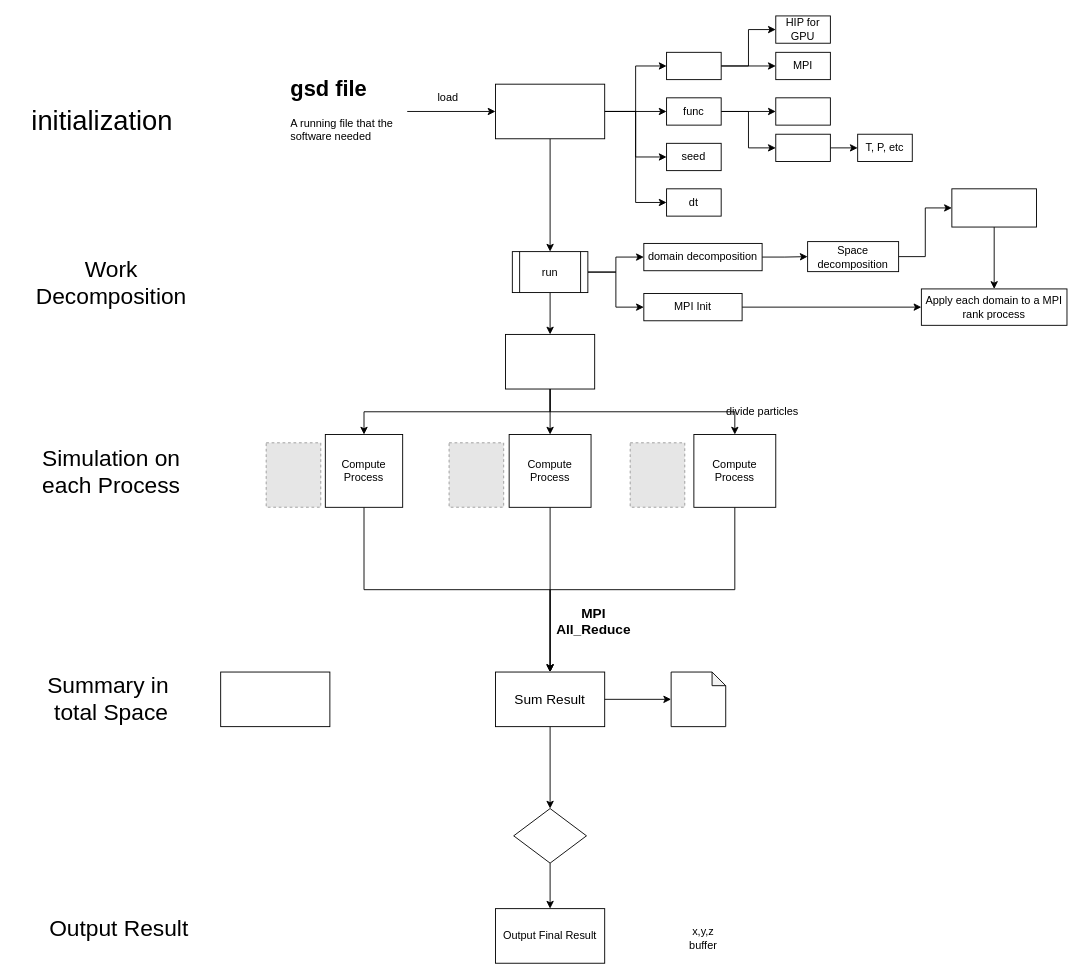
Image size: 1083x979. Some labels were removed from this diagram. Grey dashed boxes stand in for pictures. Here are the shapes that lost their labels. From the top down, the centre of each, then its label:
At (x=693, y=65): "CPU/GPU".
At (x=550, y=111): "Simulation init: seed, num, func".
At (x=802, y=111): "parameter".
At (x=802, y=147): "condition".
At (x=993, y=207): "3D decomposition".
At (x=550, y=361): "Sent Works to different Working Process".
At (x=698, y=699): "result".
At (x=549, y=835): "step ?".
